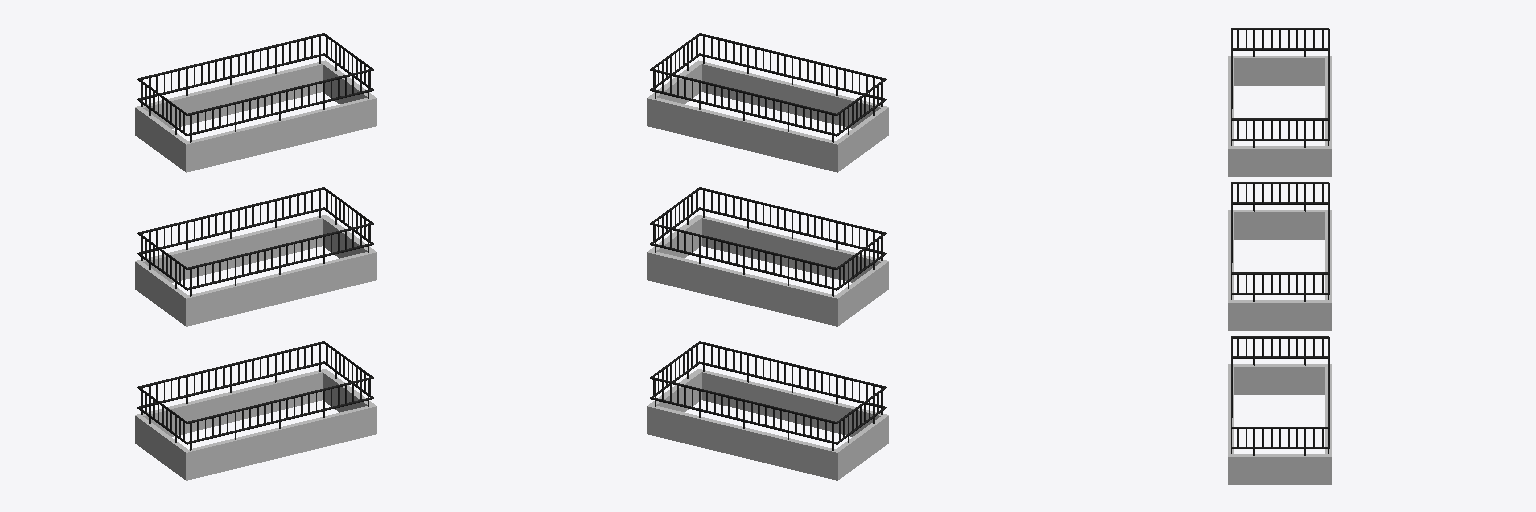
Rendered from balcones_7.obj.
3 renders of one model, left to right at view 1: azimuth 30°, elevation 25°; view 2: azimuth 150°, elevation 25°; view 3: azimuth 270°, elevation 25°, orthographic.
Parts seen in each view (by area): view 1: Borde_barrotes.001_Cube.008; view 2: Borde_barrotes.001_Cube.008; view 3: Borde_barrotes.001_Cube.008.
Part boxes in pixels (x1,y1,x2,y2): Borde_barrotes.001_Cube.008: (135, 33, 376, 480); Borde_barrotes.001_Cube.008: (647, 33, 888, 480); Borde_barrotes.001_Cube.008: (1228, 28, 1331, 484).
Size of the model in its own units: 7.14 by 13.05 by 3.33.